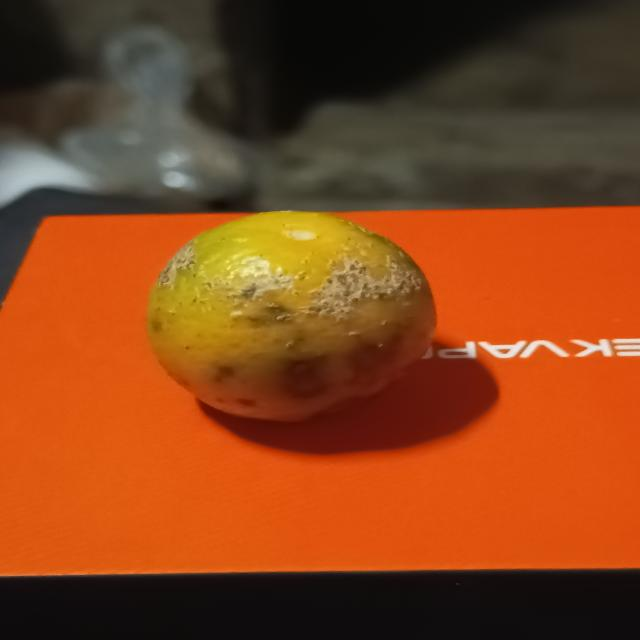black spot: (142, 209, 449, 425)
